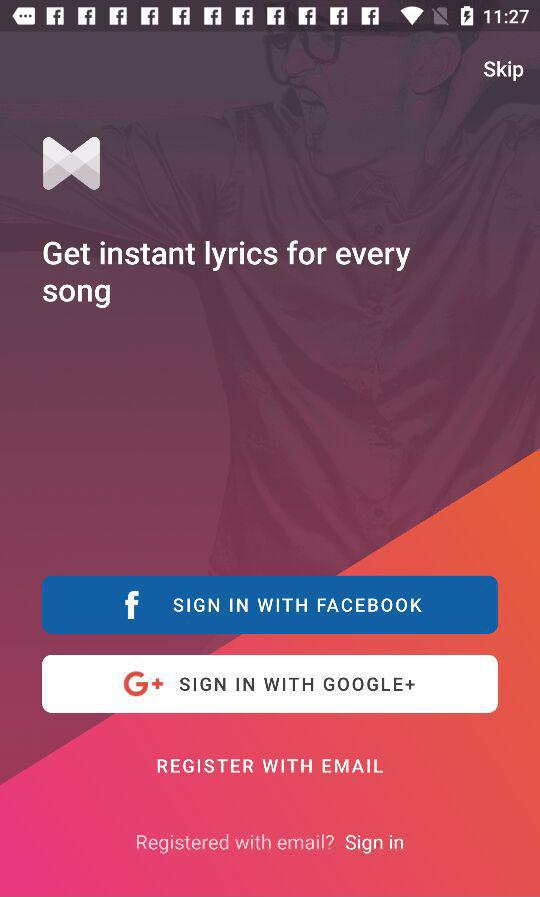BackgroundImage: (1, 33, 540, 897)
Image: (43, 137, 102, 192)
Text: (43, 240, 411, 310), (157, 758, 384, 775), (344, 833, 404, 855), (483, 61, 525, 83)
TextButton: (42, 655, 499, 714), (42, 576, 498, 635), (136, 832, 336, 856)
UpperTaskBar: (1, 1, 540, 33)
